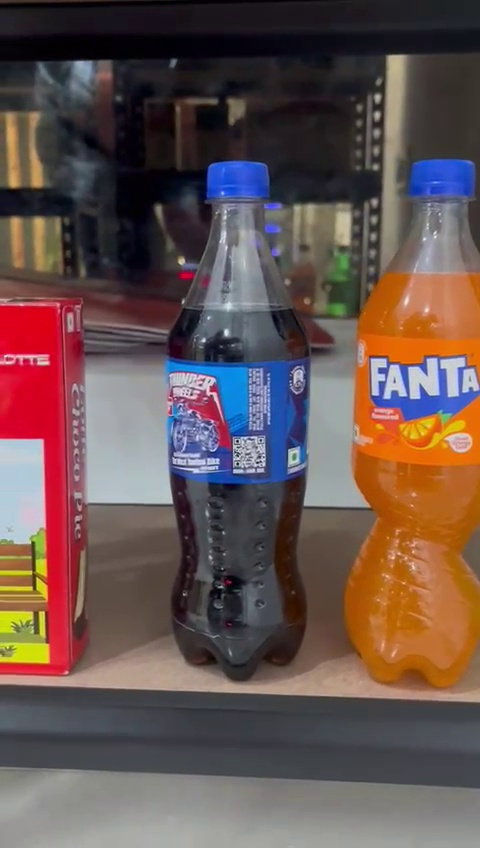Fanta: (341, 155, 480, 696)
Thums-up: (155, 159, 320, 683)
